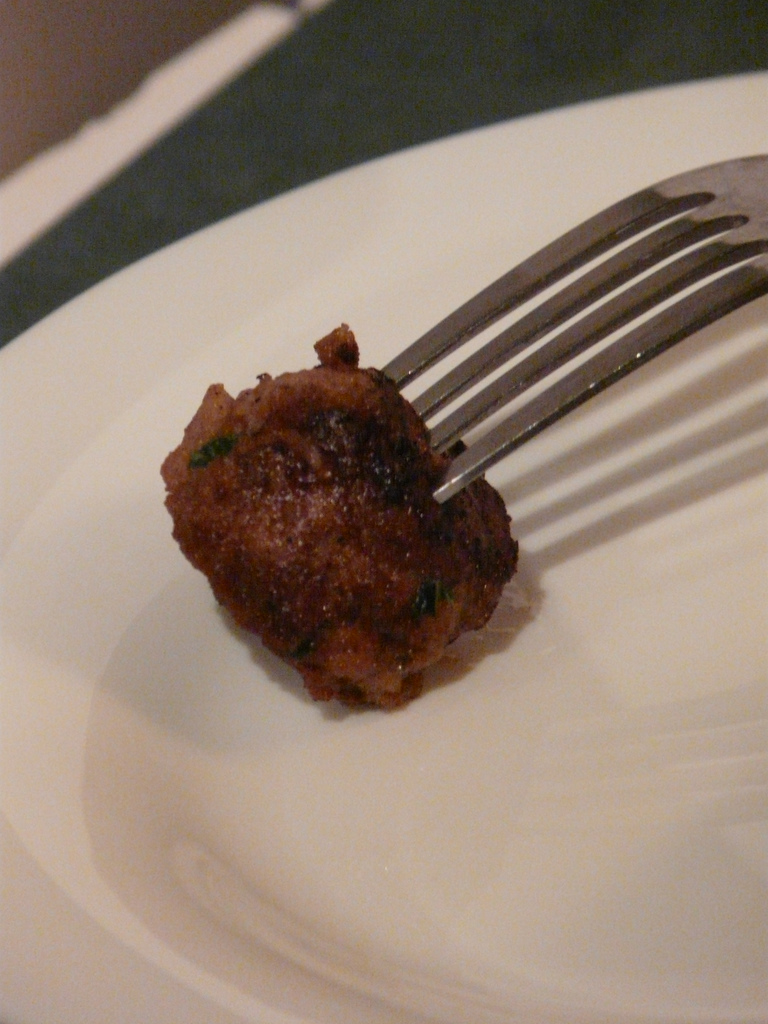meatballs: (199, 377, 455, 618)
